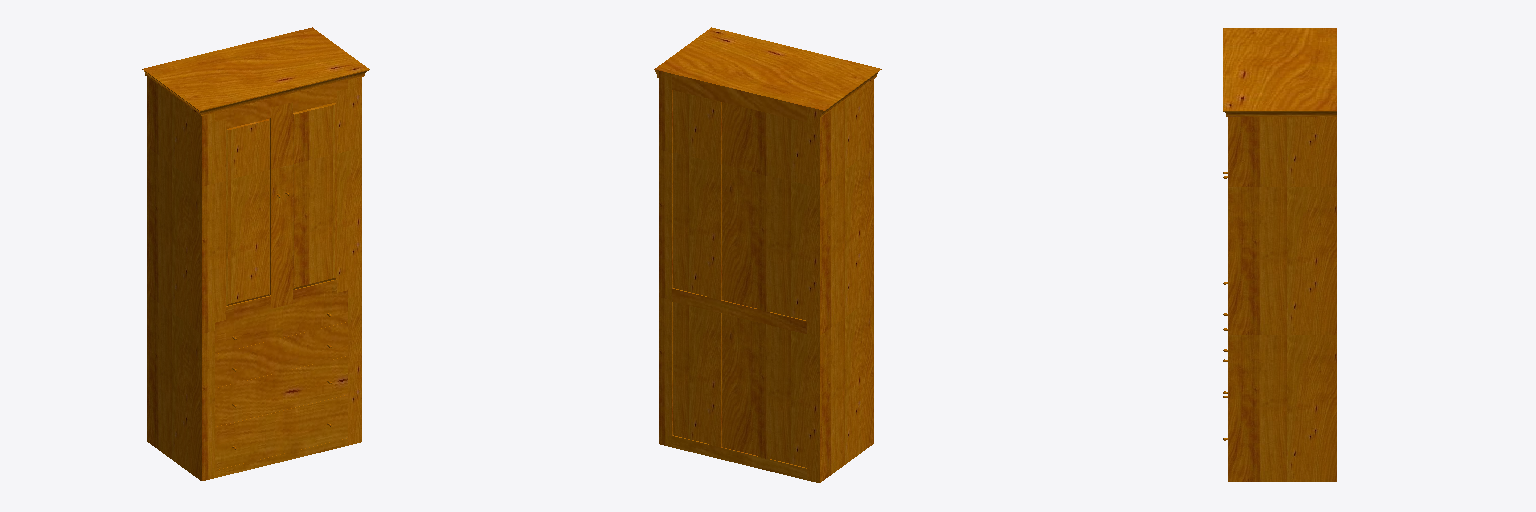
3 views of the same model, side by side, from view 1: azimuth 30°, elevation 25°; view 2: azimuth 150°, elevation 25°; view 3: azimuth 270°, elevation 25° (orthographic).
Parts seen in each view (by area): view 1: Mesh11 Component_2_1 TCDO_D1 Model; view 2: Mesh11 Component_2_1 TCDO_D1 Model; view 3: Mesh11 Component_2_1 TCDO_D1 Model.
Boxes of the visible parts, x1,y1,x2,y2 form: Mesh11 Component_2_1 TCDO_D1 Model: [142, 27, 369, 480]; Mesh11 Component_2_1 TCDO_D1 Model: [654, 27, 881, 482]; Mesh11 Component_2_1 TCDO_D1 Model: [1223, 28, 1336, 481].
Size of the model in its own units: 35.94 by 75.45 by 21.
3 materials, 2 textured.